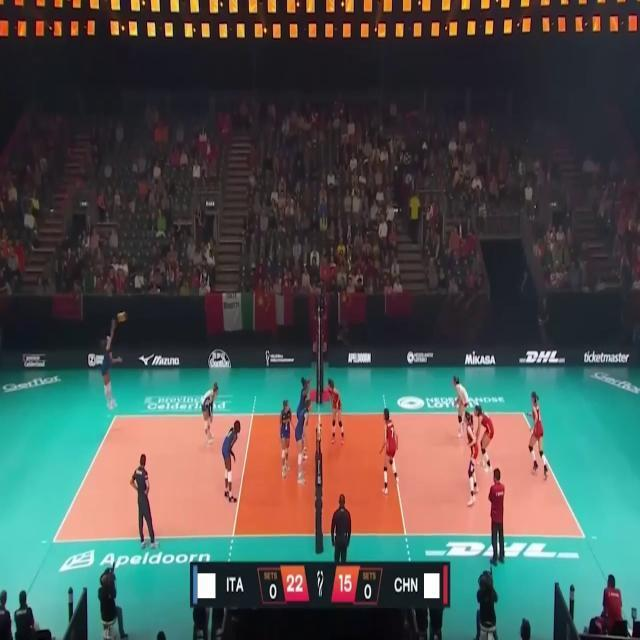volleyball: (116, 312, 128, 322)
